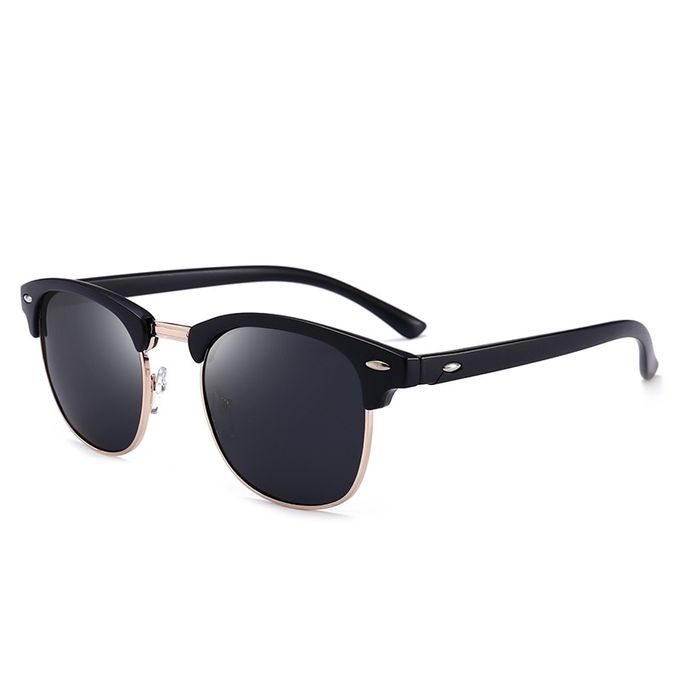sunglasses: (14, 269, 610, 502)
